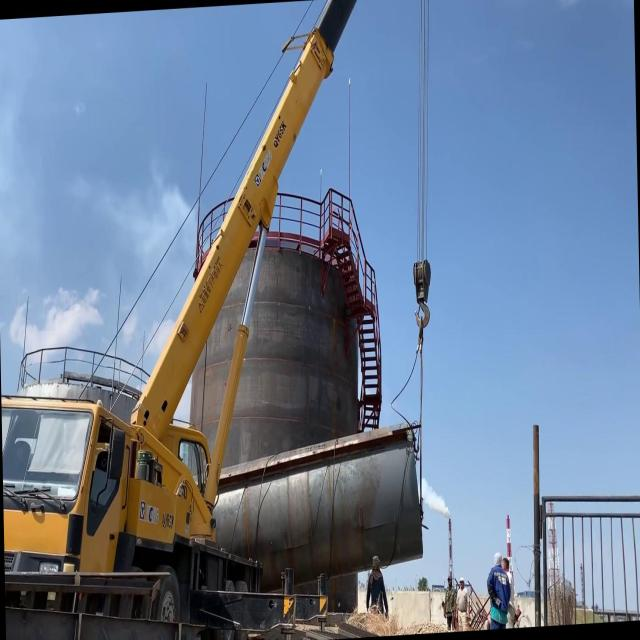crane: (0, 0, 375, 640)
